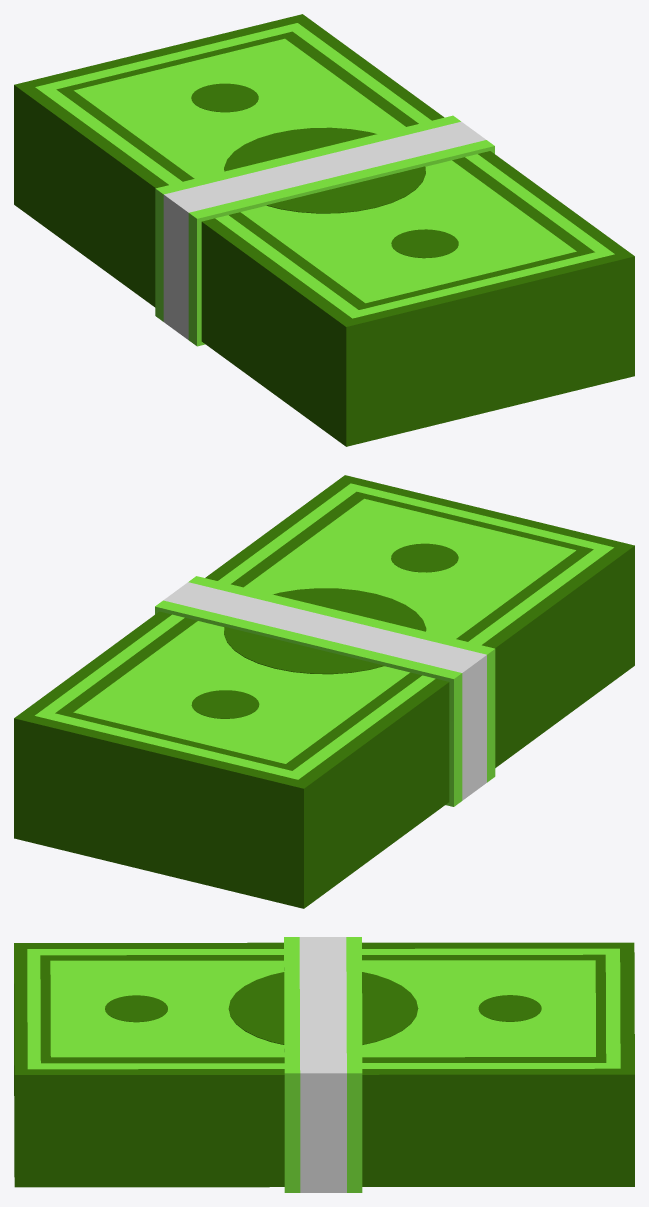
The model's file is MONEY.fbx.
The picture shows the model from 3 angles, top to bottom: view 1: azimuth 30°, elevation 25°; view 2: azimuth 150°, elevation 25°; view 3: azimuth 270°, elevation 25°; orthographic projection. The views are drawn at different scales.
Visible parts, largest first — view 1: Money, Money.002; view 2: Money, Money.002; view 3: Money, Money.002.
Part boxes in pixels (box(x1,y1,x2,y2)): Money: box(14, 14, 634, 446); Money.002: box(191, 83, 458, 258); Money: box(14, 475, 634, 908); Money.002: box(191, 543, 458, 718); Money: box(14, 937, 634, 1192); Money.002: box(105, 972, 541, 1044).
Size of the model in its own units: 114 by 46.47 by 219.
